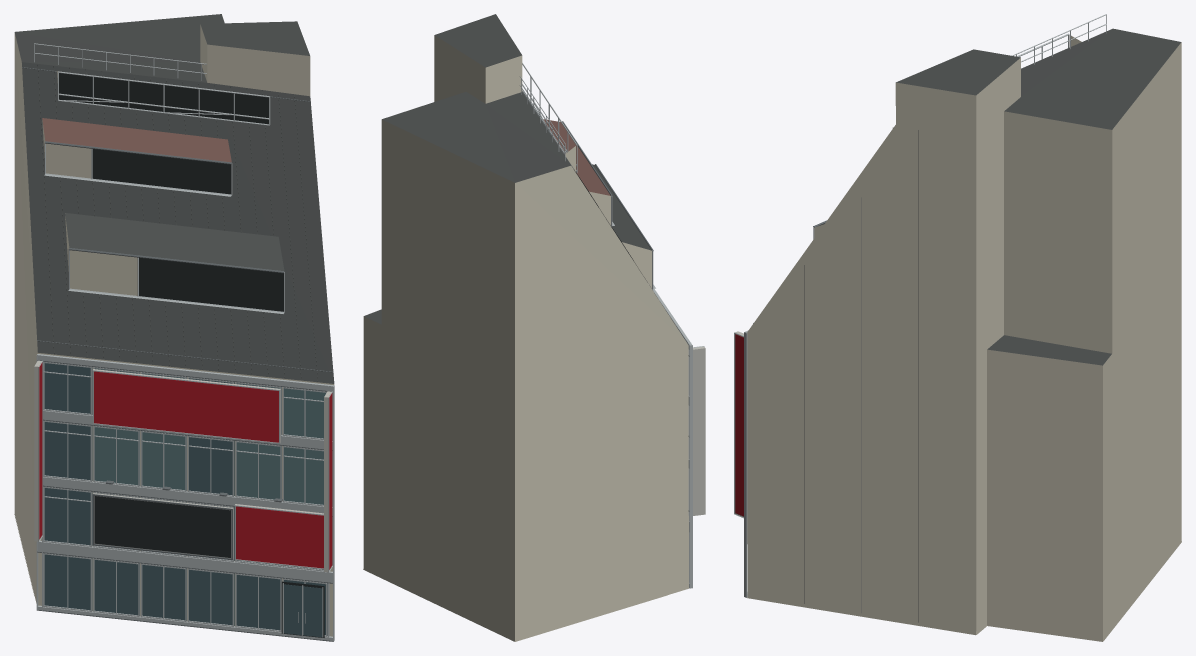
The model's file is quattro.glb.
The picture shows the model from 3 angles, left to right: view 1: azimuth 30°, elevation 25°; view 2: azimuth 150°, elevation 25°; view 3: azimuth 270°, elevation 25°; orthographic projection. The views are drawn at different scales.
Visible parts, largest first — view 1: quattro_roof, quattro_silver_details, quattro_glass_dim_details, quattro_shadow_details, quattro_red_housing_details, quattro_wall, quattro_glass_details, quattro_roof_lower_hood_details, quattro_roof_upper_opening_details, quattro_edge_details, quattro_hood_brown_details, quattro_wall_details (+2 smaller); view 2: quattro_wall, quattro_roof, quattro_silver_details, quattro_sign_back_details, quattro_wall_details, quattro_hood_brown_details, quattro_roof_lower_hood_details, quattro_edge_details; view 3: quattro_wall, quattro_roof, quattro_silver_details, quattro_red_housing_details, quattro_edge_details.
Part boxes in pixels (x1=…): quattro_roof: x1=14, y1=14, x2=334, y2=383; quattro_silver_details: x1=34, y1=43, x2=334, y2=641; quattro_glass_dim_details: x1=44, y1=363, x2=327, y2=637; quattro_shadow_details: x1=92, y1=149, x2=324, y2=637; quattro_red_housing_details: x1=39, y1=362, x2=332, y2=569; quattro_wall: x1=14, y1=24, x2=334, y2=636; quattro_glass_details: x1=94, y1=368, x2=325, y2=569; quattro_roof_lower_hood_details: x1=65, y1=213, x2=284, y2=271; quattro_roof_upper_opening_details: x1=59, y1=73, x2=268, y2=124; quattro_edge_details: x1=22, y1=67, x2=333, y2=641; quattro_hood_brown_details: x1=42, y1=118, x2=231, y2=162; quattro_wall_details: x1=42, y1=71, x2=137, y2=295; quattro_wall: x1=363, y1=35, x2=688, y2=641; quattro_roof: x1=364, y1=14, x2=570, y2=324; quattro_silver_details: x1=519, y1=63, x2=704, y2=588; quattro_sign_back_details: x1=693, y1=346, x2=705, y2=515; quattro_wall_details: x1=565, y1=146, x2=651, y2=288; quattro_hood_brown_details: x1=543, y1=119, x2=610, y2=195; quattro_roof_lower_hood_details: x1=592, y1=164, x2=651, y2=250; quattro_edge_details: x1=522, y1=92, x2=689, y2=511; quattro_wall: x1=747, y1=42, x2=1181, y2=641; quattro_roof: x1=896, y1=28, x2=1181, y2=365; quattro_silver_details: x1=734, y1=14, x2=1106, y2=597; quattro_red_housing_details: x1=735, y1=334, x2=743, y2=516; quattro_edge_details: x1=753, y1=127, x2=918, y2=622.
Bounding box in the file's own units: 17.56 × 30.36 × 22.84.
